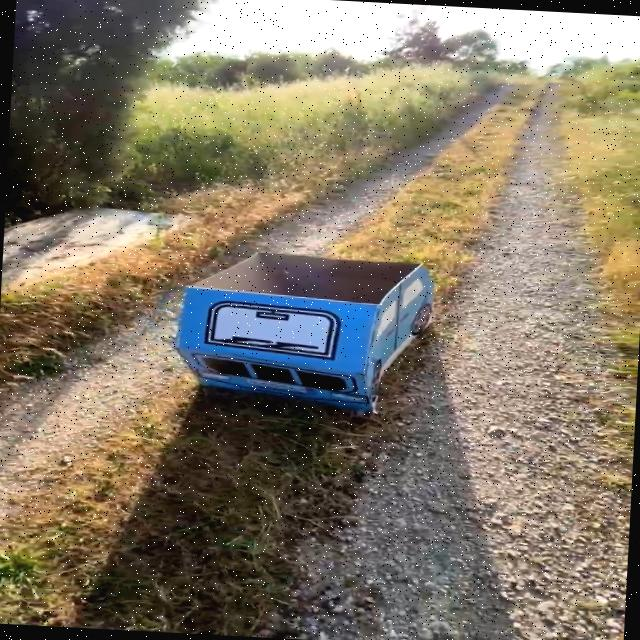blue_car: (122, 219, 521, 441)
